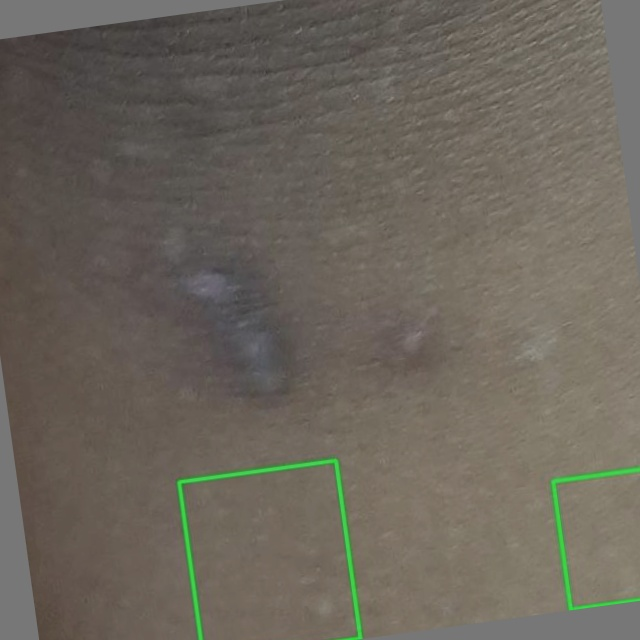Scabies: (179, 460, 360, 639), (553, 469, 639, 609)
